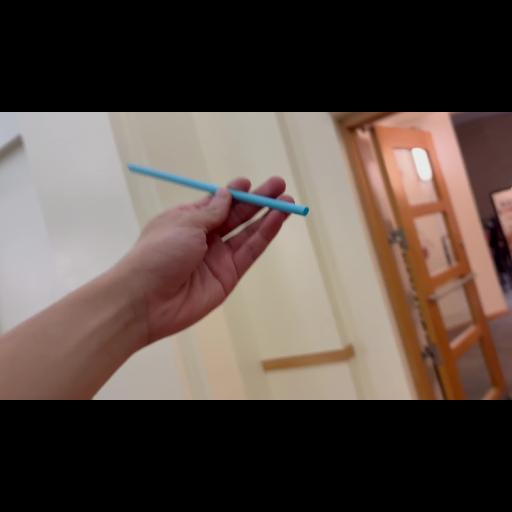straw: (122, 157, 322, 227)
